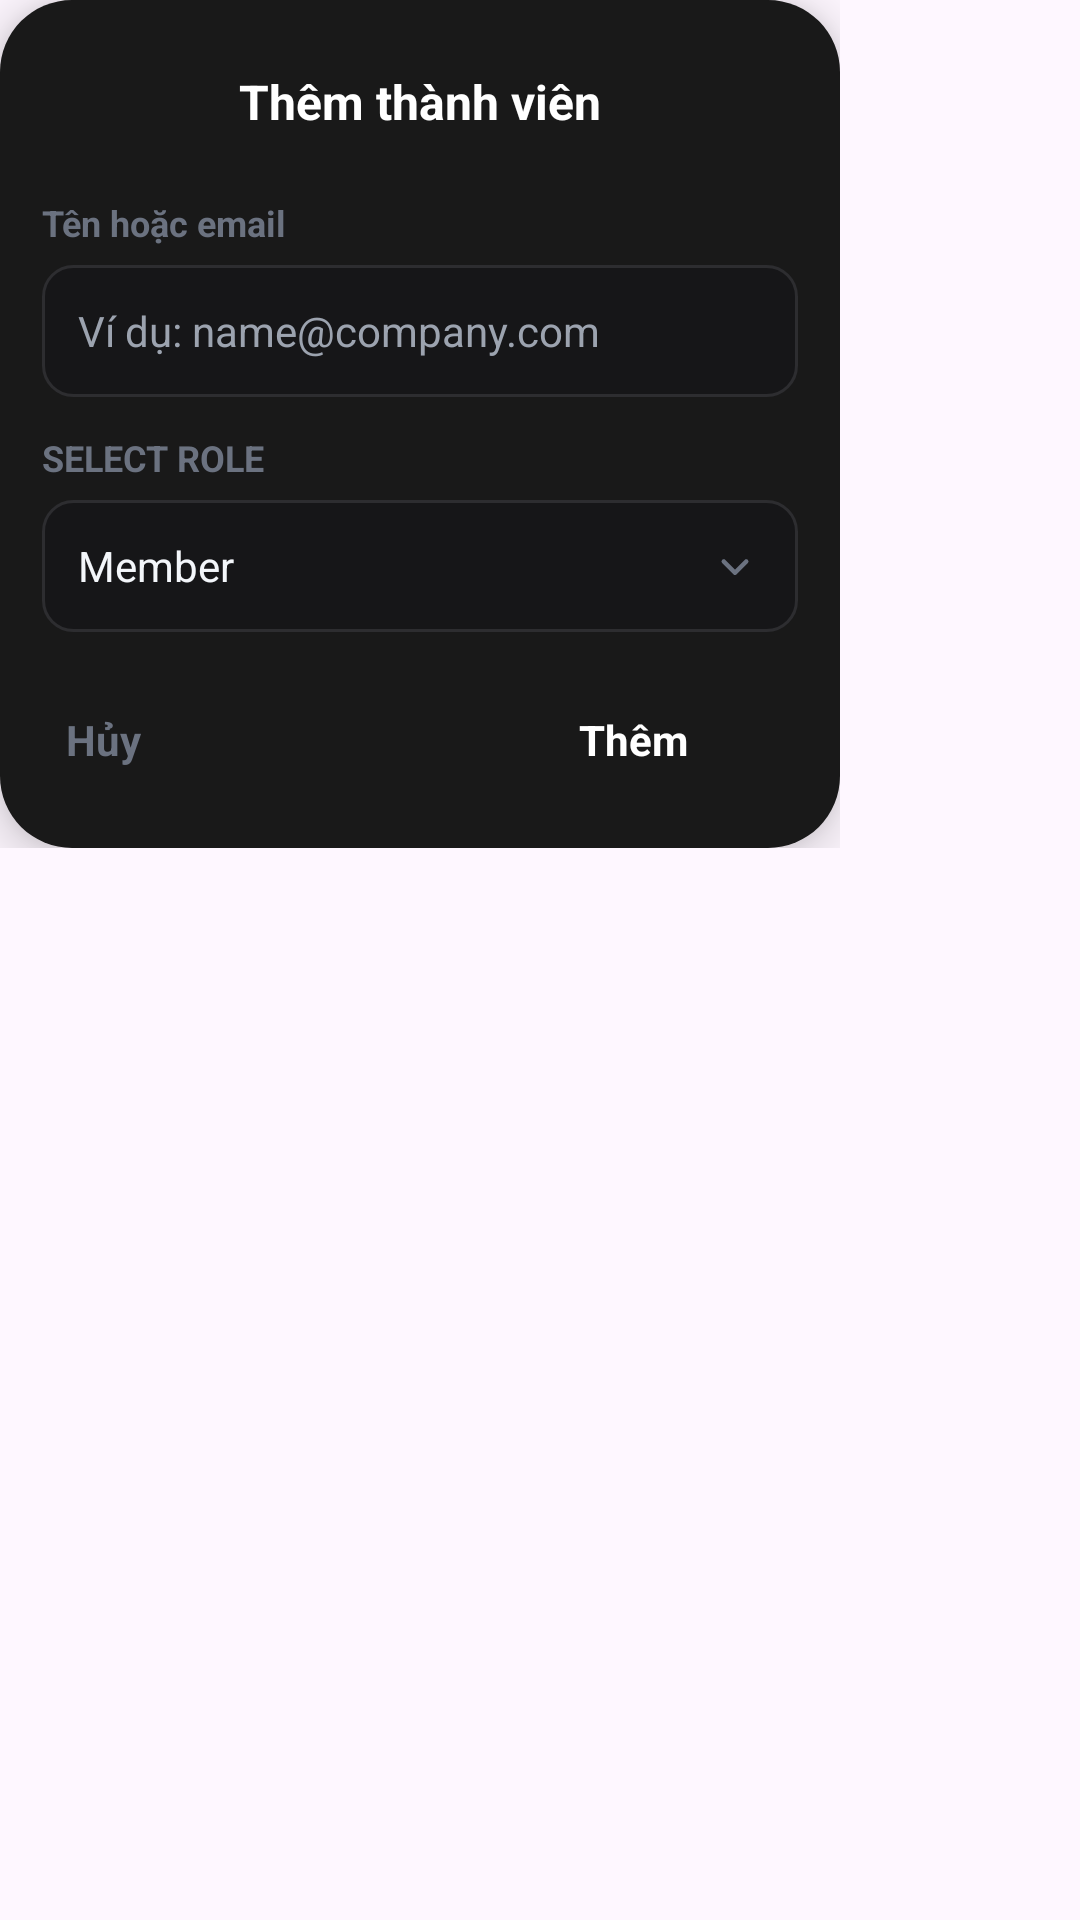

Point at icon controls on the screen. Image size 1080w x 1920h, points as point (x, y).
Mở danh sách: point (735, 567)
